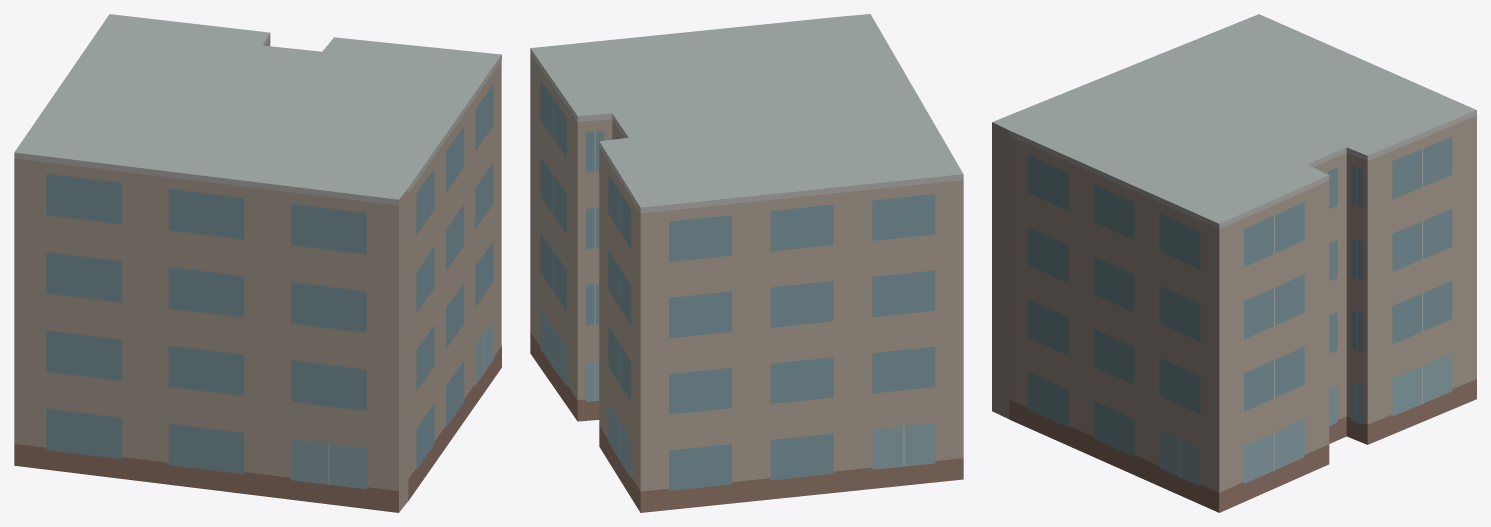
Rendered from survey-upis-32815286.glb.
3 views of the same model, side by side, from view 1: azimuth 30°, elevation 25°; view 2: azimuth 150°, elevation 25°; view 3: azimuth 270°, elevation 25° (orthographic). The views are drawn at different scales.
Parts seen in each view (by area): view 1: survey-upis-32815286.tmp; view 2: survey-upis-32815286.tmp; view 3: survey-upis-32815286.tmp.
Part boxes in pixels (box(x1,y1,x2,y2)): survey-upis-32815286.tmp: box(14, 14, 501, 512); survey-upis-32815286.tmp: box(530, 14, 963, 512); survey-upis-32815286.tmp: box(992, 14, 1476, 512).
Size of the model in its own units: 20.13 by 12.92 by 19.65.
